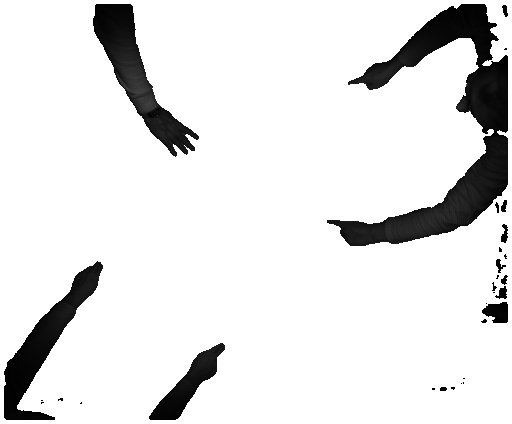hand: (151, 112, 199, 159), (344, 49, 393, 95), (320, 216, 381, 247), (191, 336, 231, 383), (71, 256, 103, 305)
